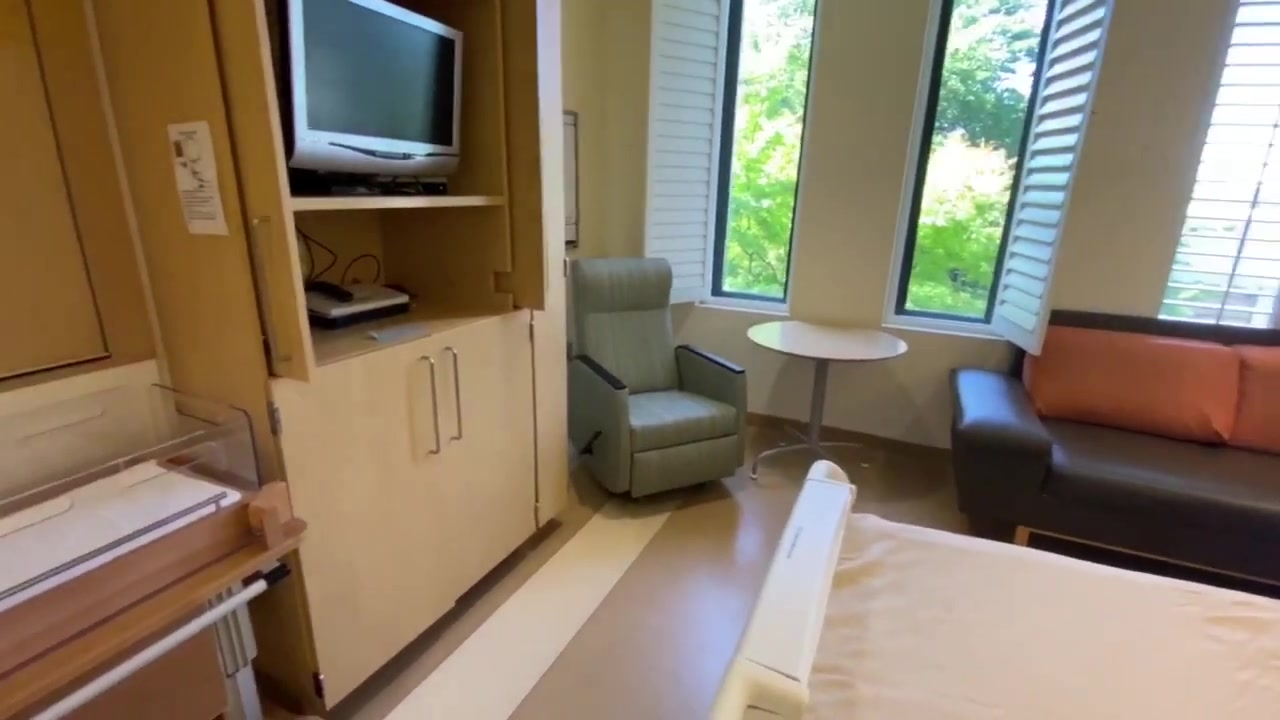TV: (286, 1, 475, 186)
foot_board: (703, 456, 862, 720)
handle: (430, 345, 468, 442), (422, 361, 448, 454)
hospital_bed: (709, 458, 1280, 720)
sofa: (951, 308, 1280, 586), (566, 256, 748, 503)
table: (742, 320, 907, 485)
